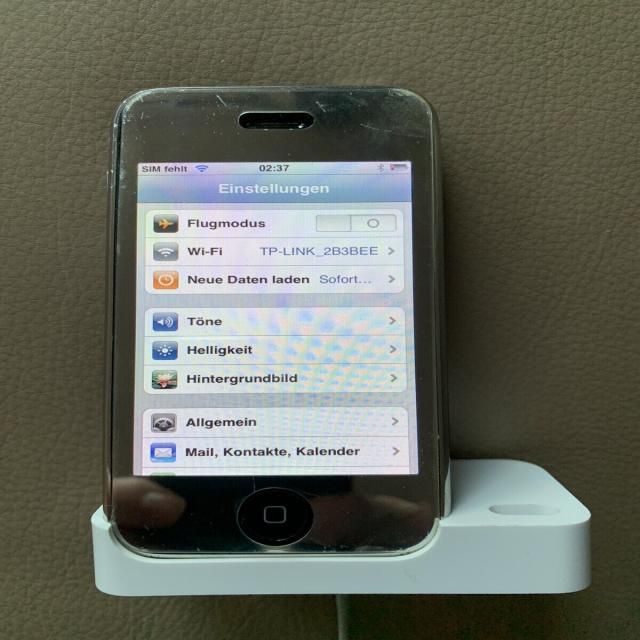Dents: (106, 99, 126, 223), (117, 87, 155, 124), (210, 90, 234, 113)
